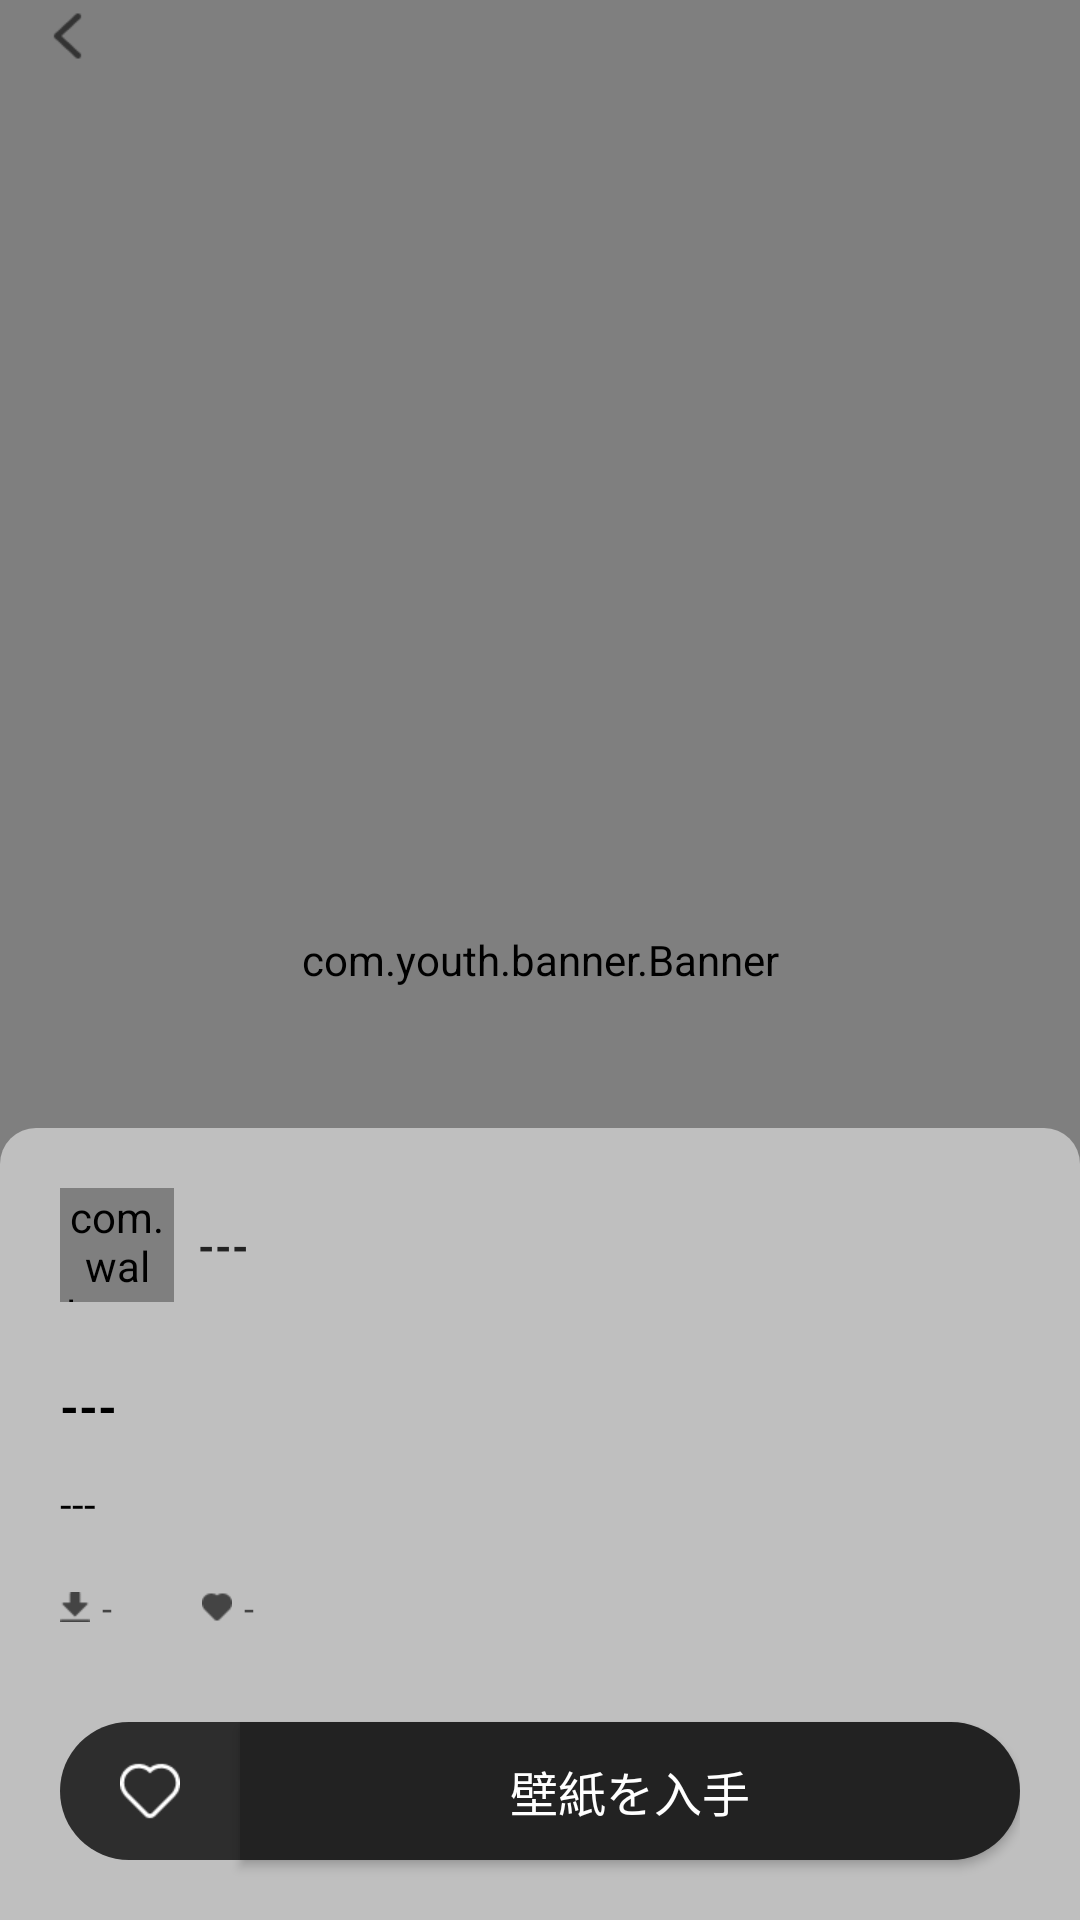

Named icons in this screenshot (1080px×1920px) and their centers, [x,y]:
back: [67,36]
download setting: [75,1607]
like: [217,1607], [150,1791]
